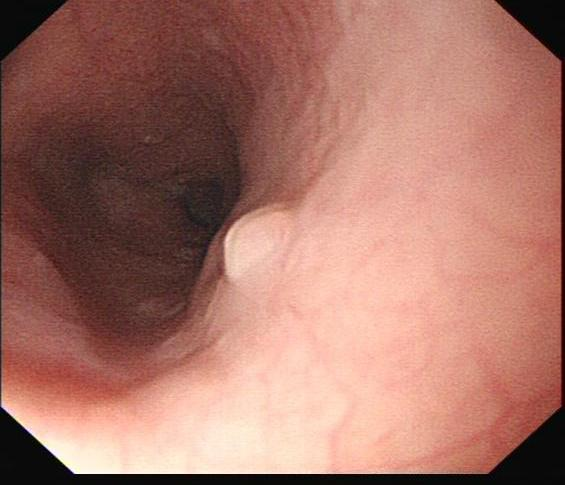Polyp: (208, 190, 323, 299)
